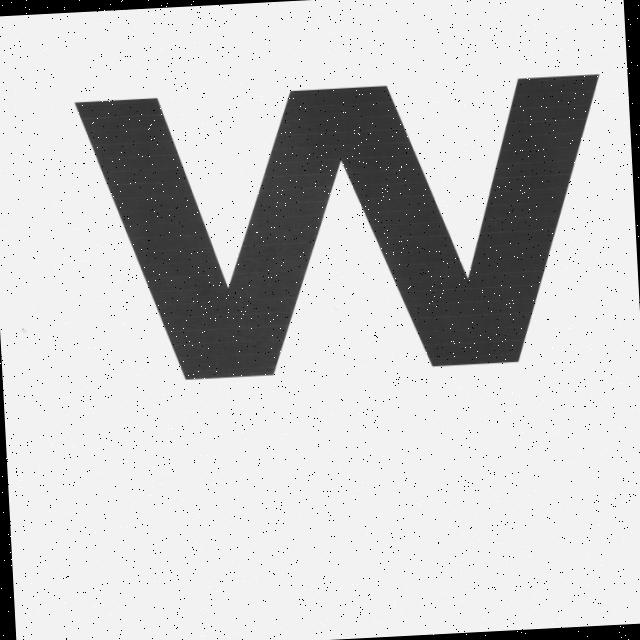w: (53, 48, 640, 420)
